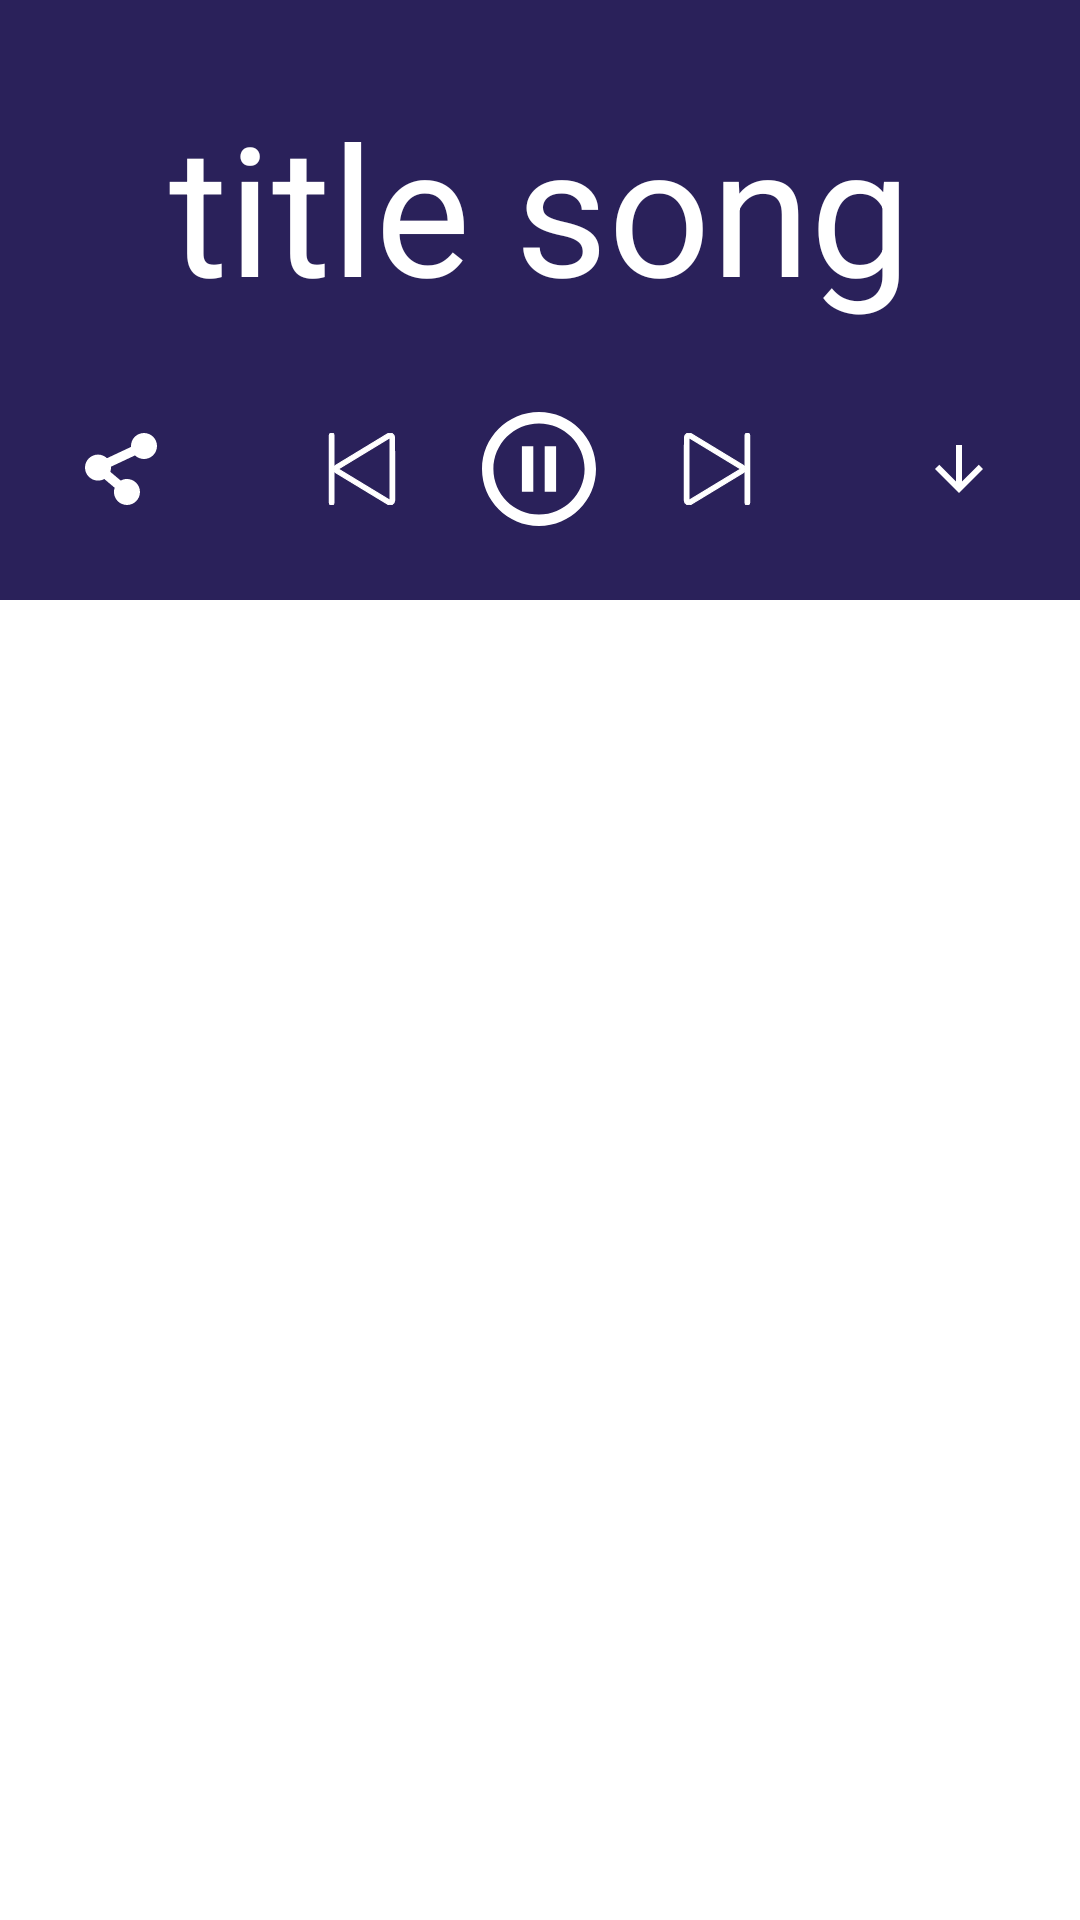

Locate icon controls on the screen. Image size 1080 × 1920, boxes as (x1,y1,x2,y2).
download: (935,445,983,493)
next: (683,433,751,505)
pause: (482,412,596,526)
share: (85,433,157,505)
